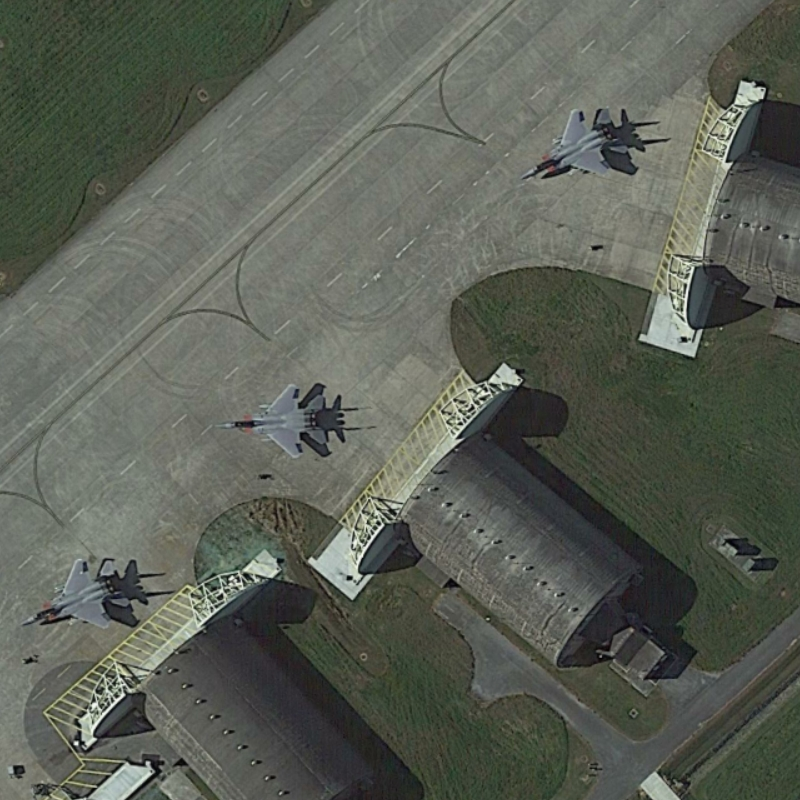A13: (204, 375, 336, 466), (511, 97, 637, 188), (14, 553, 132, 637)
